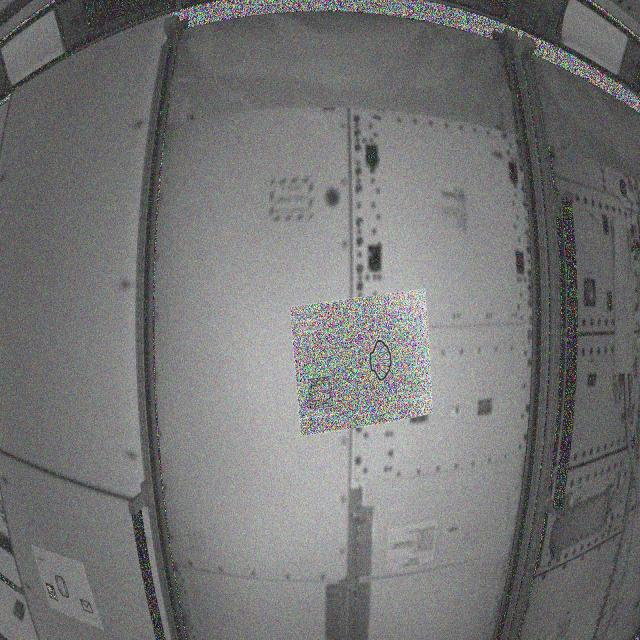shell: (358, 335, 401, 386)
